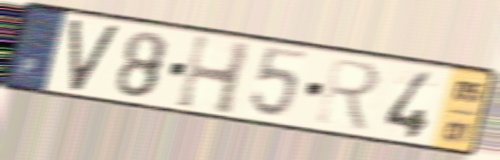4: (381, 67, 435, 141)
5: (246, 43, 310, 122)
8: (114, 29, 170, 100)
H: (173, 31, 256, 119)
R: (314, 54, 383, 135)
V: (68, 18, 123, 94)
